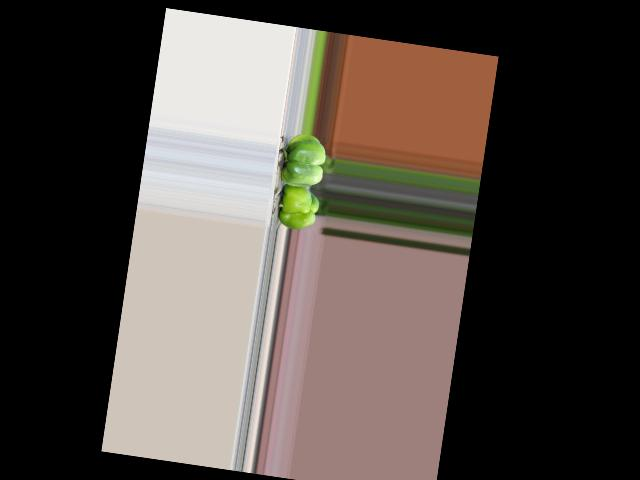bell_pepper: (273, 182, 323, 233)
